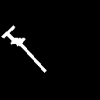double_crochet: (2, 26, 45, 71)
